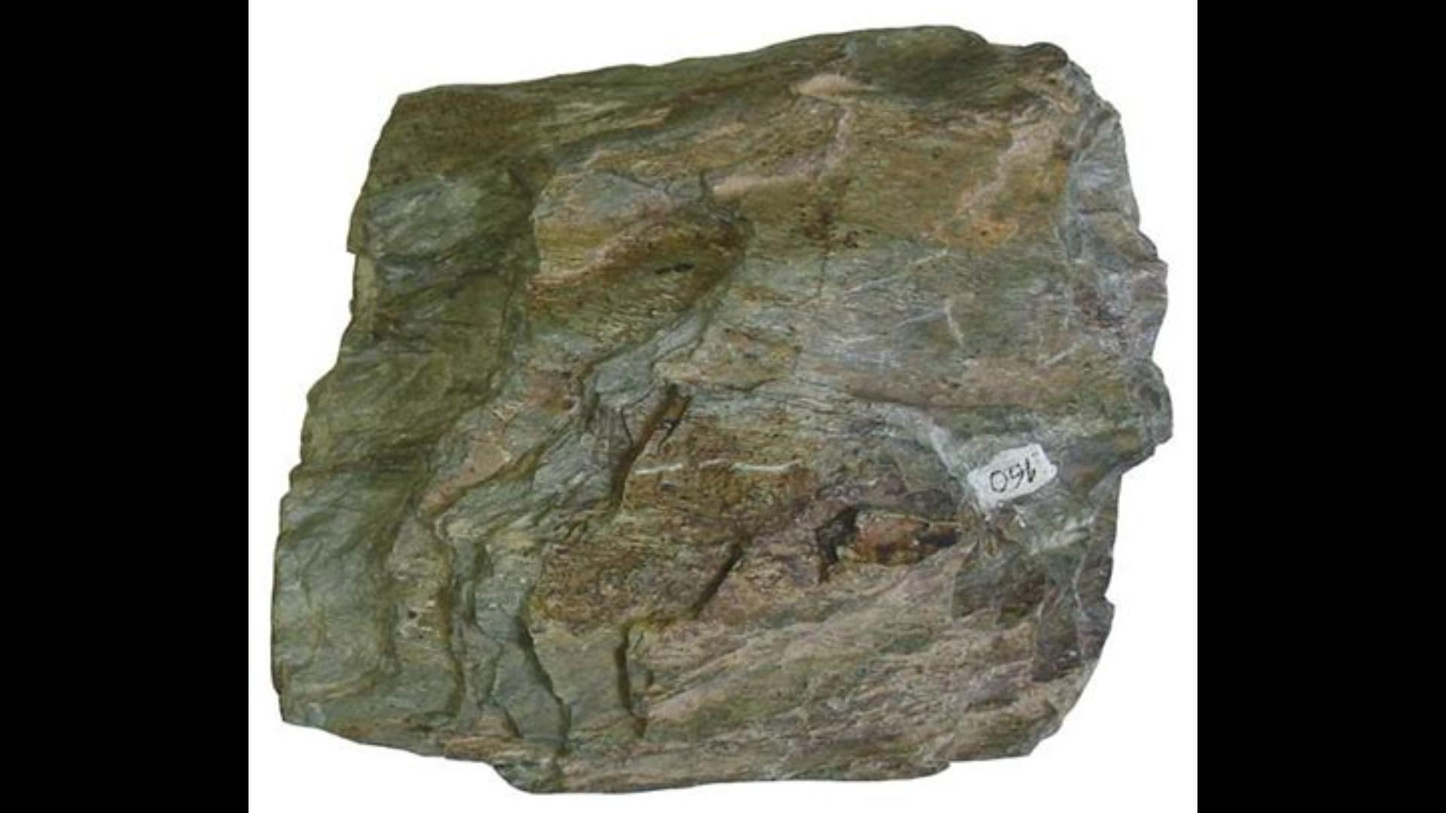rock: (281, 28, 1170, 789)
